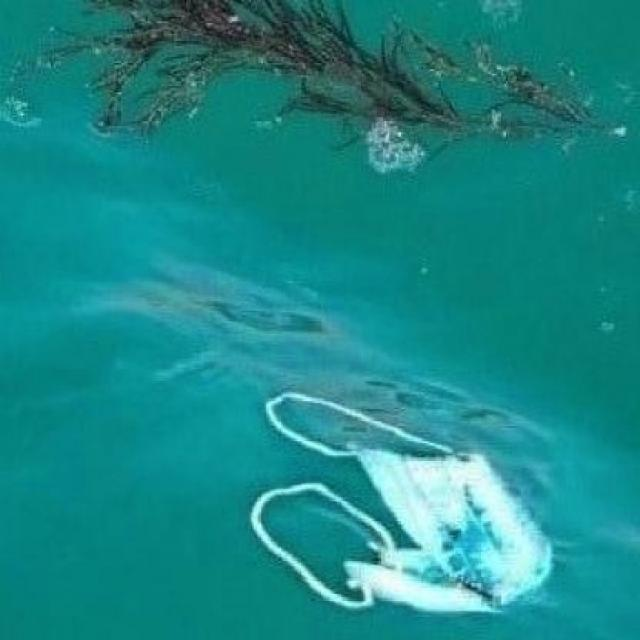Mask: (252, 388, 558, 622)
